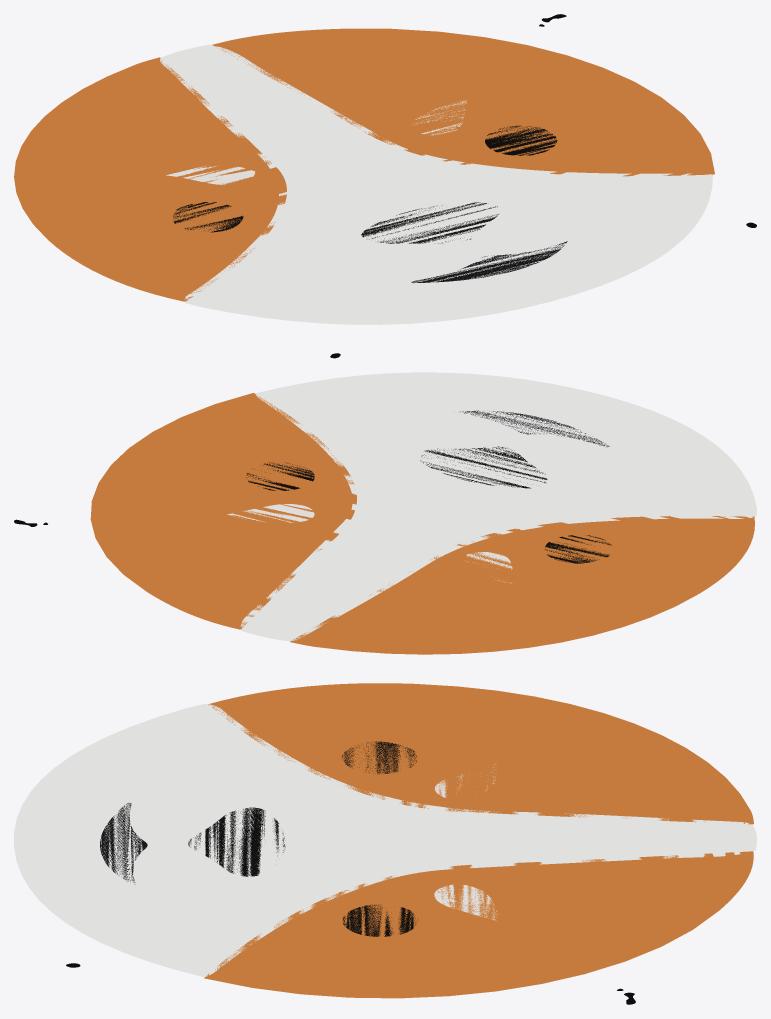
The model's file is welsh.glb.
The picture shows the model from 3 angles, top to bottom: view 1: azimuth 30°, elevation 25°; view 2: azimuth 150°, elevation 25°; view 3: azimuth 270°, elevation 25°; orthographic projection. The views are drawn at different scales.
Visible parts, largest first — view 1: Curve, Curve.001, Curve.002, Curve.004, Curve.005, Curve.006, Curve.009, Curve.008; view 2: Curve, Curve.001, Curve.002, Curve.004, Curve.005, Curve.008, Curve.007, Curve.006; view 3: Curve, Curve.001, Curve.002, Curve.004, Curve.005, Curve.006, Curve.007, Curve.008.
Part boxes in pixels (x1=…): Curve: x1=160, y1=44, x2=712, y2=324; Curve.001: x1=212, y1=28, x2=714, y2=176; Curve.002: x1=14, y1=57, x2=286, y2=301; Curve.004: x1=361, y1=202, x2=498, y2=243; Curve.005: x1=411, y1=241, x2=567, y2=283; Curve.006: x1=485, y1=125, x2=557, y2=155; Curve.009: x1=166, y1=166, x2=255, y2=184; Curve.008: x1=173, y1=202, x2=243, y2=232; Curve: x1=240, y1=372, x2=756, y2=641; Curve.001: x1=90, y1=393, x2=356, y2=629; Curve.002: x1=290, y1=516, x2=754, y2=654; Curve.004: x1=420, y1=446, x2=547, y2=488; Curve.005: x1=460, y1=410, x2=609, y2=446; Curve.008: x1=545, y1=535, x2=611, y2=563; Curve.007: x1=227, y1=504, x2=314, y2=522; Curve.006: x1=246, y1=462, x2=314, y2=490; Curve: x1=14, y1=704, x2=756, y2=977; Curve.001: x1=204, y1=851, x2=753, y2=998; Curve.002: x1=208, y1=683, x2=753, y2=824; Curve.004: x1=188, y1=807, x2=285, y2=876; Curve.005: x1=100, y1=803, x2=147, y2=884; Curve.006: x1=342, y1=904, x2=417, y2=936; Curve.007: x1=434, y1=884, x2=498, y2=920; Curve.008: x1=342, y1=741, x2=416, y2=774.
Bounding box in the file's own units: 0.000263 × 0 × 0.000257.
